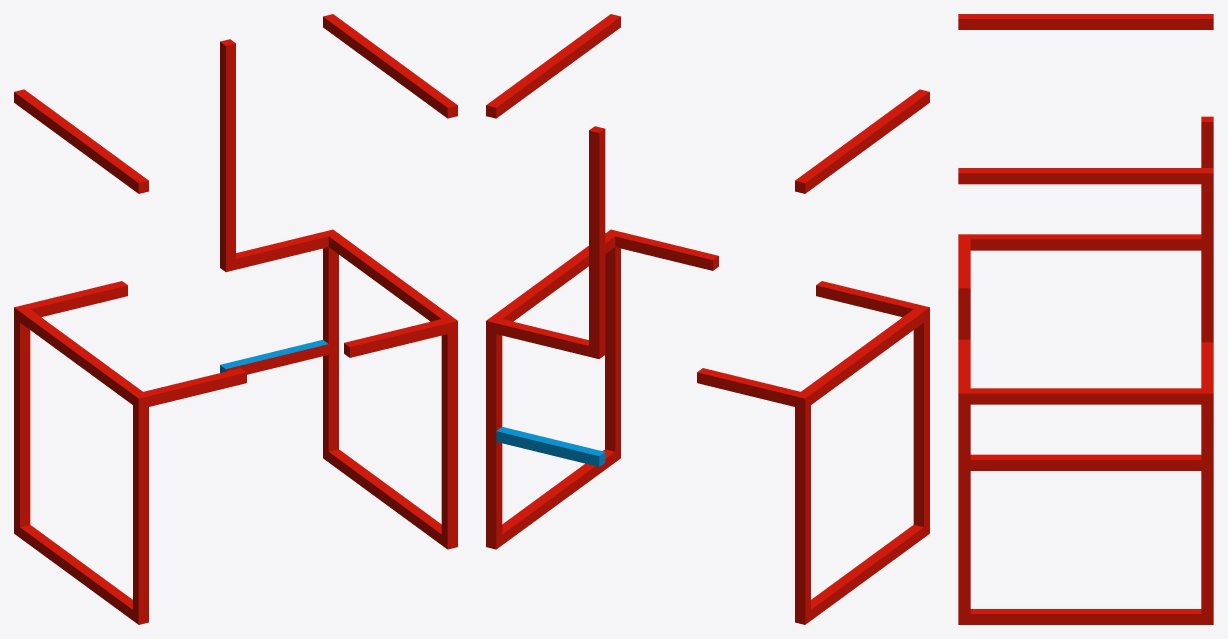
File: level_2_real.fbx
3 views of the same model, side by side, from view 1: azimuth 30°, elevation 25°; view 2: azimuth 150°, elevation 25°; view 3: azimuth 270°, elevation 25° (orthographic). The views are drawn at different scales.
Visible parts, largest first — view 1: 立方体.006; view 2: 立方体.006; view 3: 立方体.006.
Boxes of the visible parts, x1=… form: 立方体.006: x1=14, y1=14, x2=457, y2=624; 立方体.006: x1=486, y1=14, x2=929, y2=624; 立方体.006: x1=958, y1=14, x2=1213, y2=624.
Size of the model in its own units: 620 by 820 by 420.
